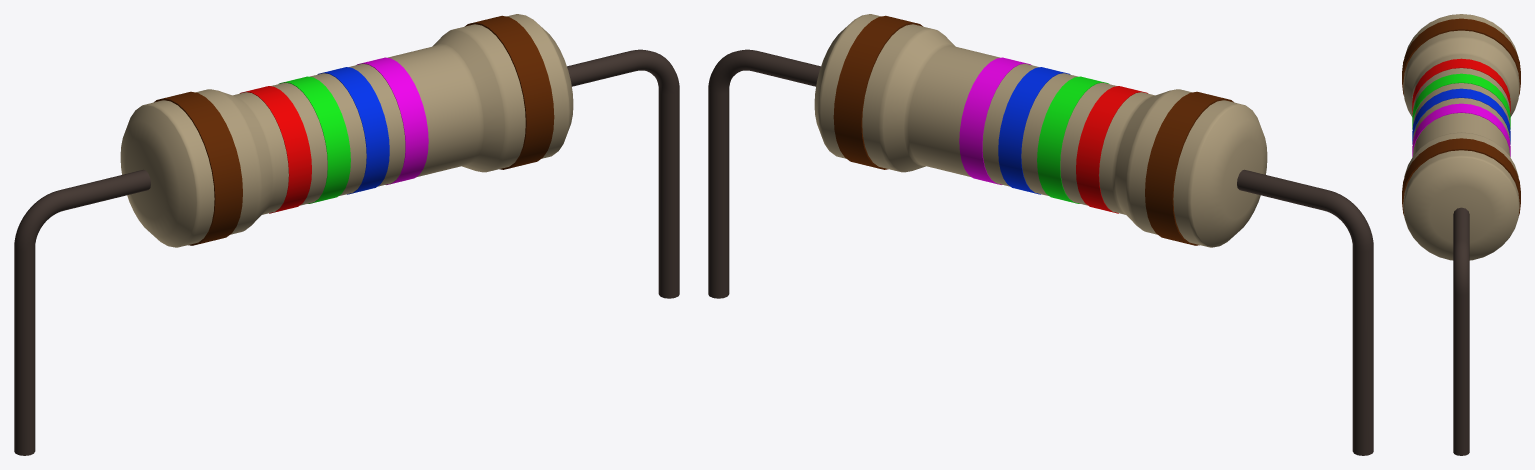
The model's file is resistor.fbx.
3 views of the same model, side by side, from view 1: azimuth 30°, elevation 25°; view 2: azimuth 150°, elevation 25°; view 3: azimuth 270°, elevation 25° (orthographic). The views are drawn at different scales.
Parts seen in each view (by area): view 1: resistor, wire, bands.left, bands.right, bands.003, bands.002, bands.004, bands.001; view 2: resistor, wire, bands.left, bands.right, bands.003, bands.002, bands.004, bands.001; view 3: resistor, wire, bands.right, bands.left, bands.001, bands.002, bands.003, bands.004.
Part boxes in pixels (box(x1,y1,x2,y2)): resistor: box(120, 14, 573, 247); wire: box(14, 49, 679, 455); bands.left: box(465, 15, 554, 169); bands.right: box(154, 91, 242, 245); bands.003: box(317, 67, 389, 194); bands.002: box(279, 76, 350, 203); bands.004: box(357, 57, 428, 184); bands.001: box(240, 86, 311, 213); resistor: box(814, 14, 1267, 247); wire: box(708, 49, 1373, 455); bands.left: box(833, 15, 922, 169); bands.right: box(1145, 91, 1233, 245); bands.003: box(998, 67, 1070, 194); bands.002: box(1037, 76, 1108, 203); bands.004: box(959, 57, 1030, 184); bands.001: box(1076, 86, 1147, 213); resistor: box(1403, 14, 1519, 260); wire: box(1453, 207, 1469, 455); bands.right: box(1402, 18, 1520, 95); bands.left: box(1402, 138, 1520, 215); bands.001: box(1412, 58, 1510, 114); bands.002: box(1412, 73, 1510, 129); bands.003: box(1412, 88, 1510, 144); bands.004: box(1412, 103, 1510, 156).
Size of the model in its own units: 61.81 by 27.66 by 12.19.
